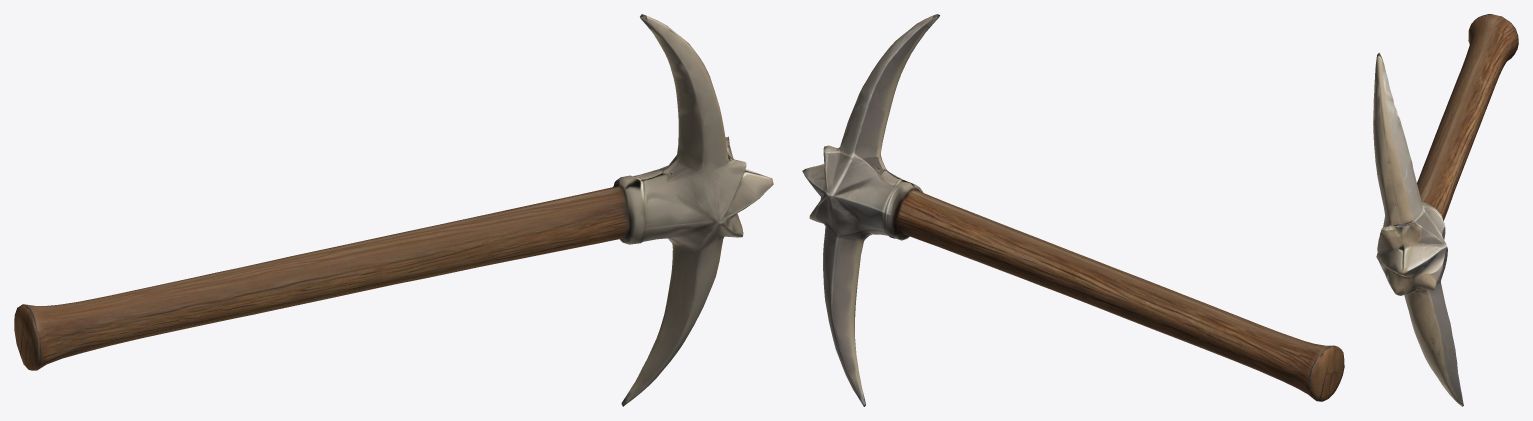
File: titanium_pickaxe.glb
The picture shows the model from 3 angles, left to right: view 1: azimuth 30°, elevation 25°; view 2: azimuth 150°, elevation 25°; view 3: azimuth 270°, elevation 25°; orthographic projection. The views are drawn at different scales.
Visible parts, largest first — view 1: Mesh_0.003; view 2: Mesh_0.003; view 3: Mesh_0.003.
Part boxes in pixels (<box>): Mesh_0.003: <box>14,14,773,406</box>; Mesh_0.003: <box>802,14,1344,406</box>; Mesh_0.003: <box>1373,14,1518,406</box>.
Size of the model in its own units: 0.8028 by 0.4875 by 0.1887.
1 material, 1 textured.
